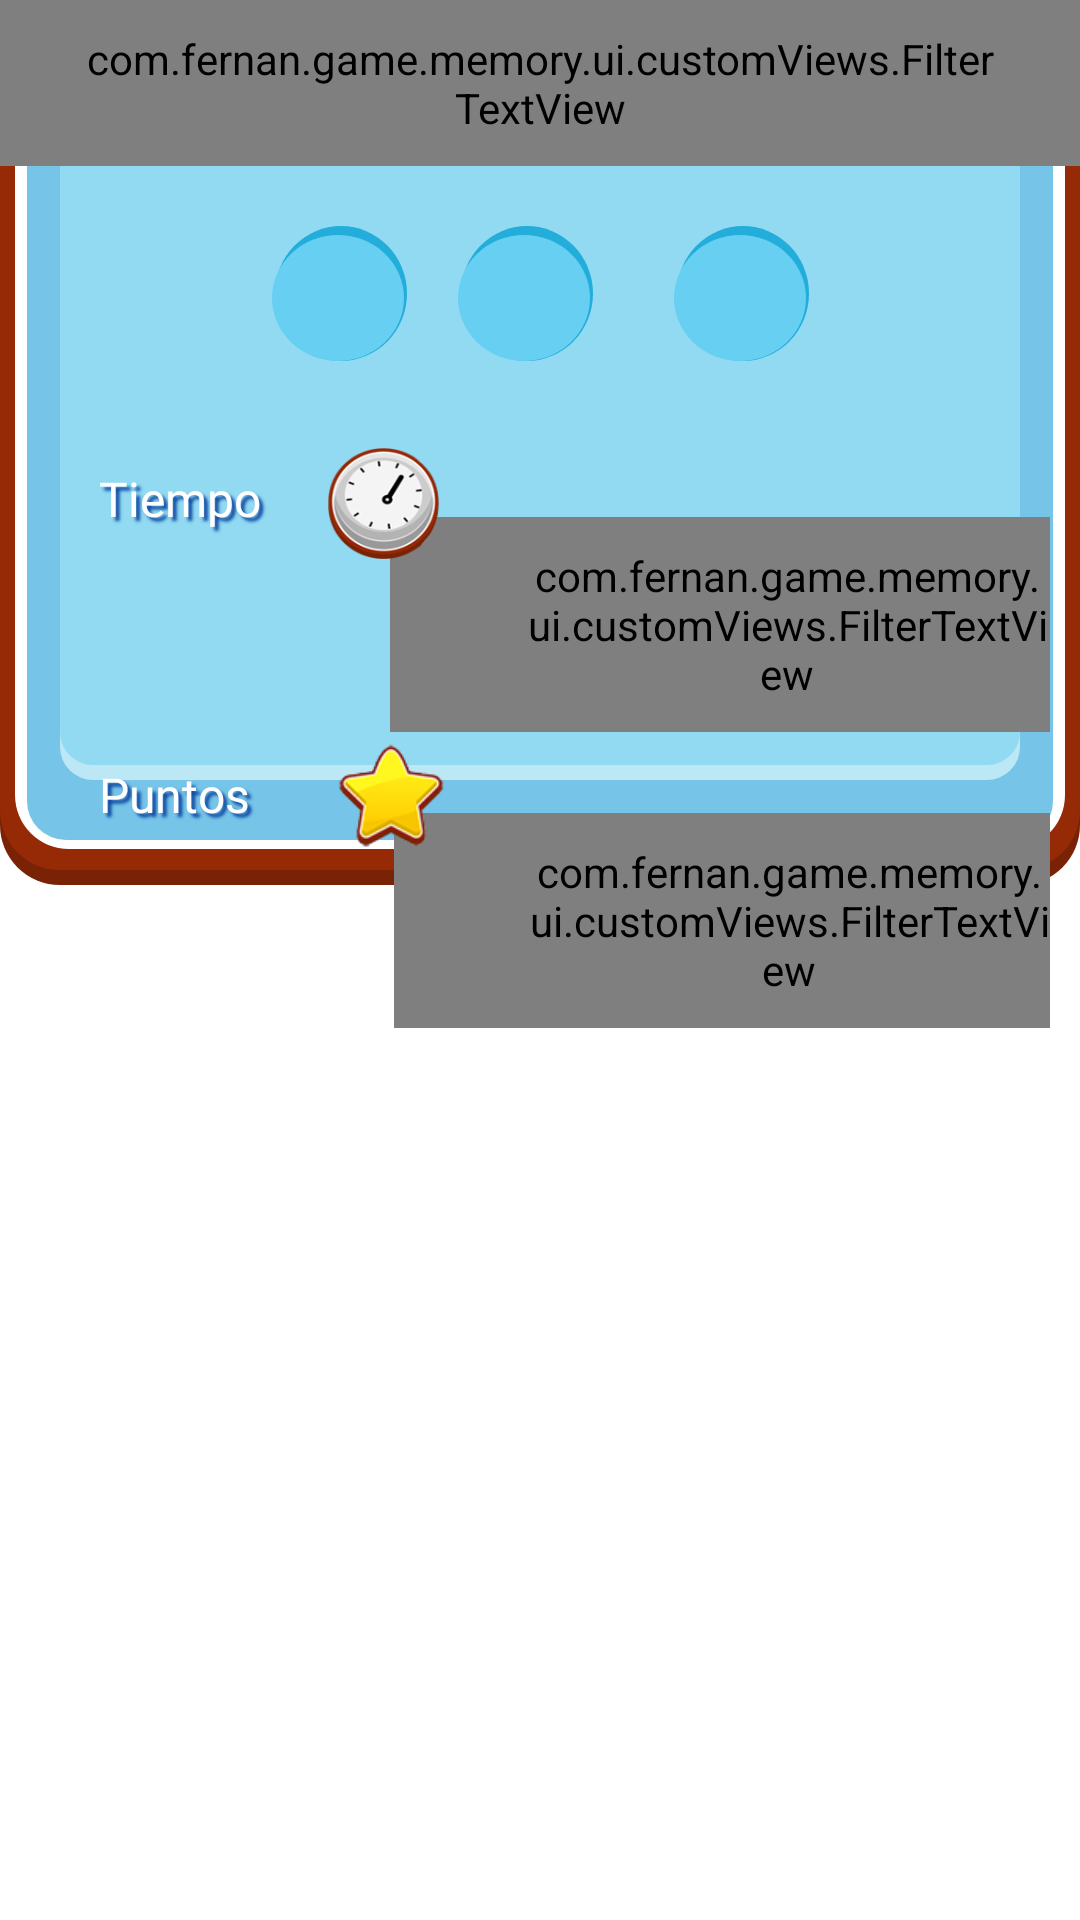

Icons on this 1080px×1920px Android screen, each with the point to tap as (x=x, y=y):
star: (x=386, y=799)
time clock: (x=389, y=509)
